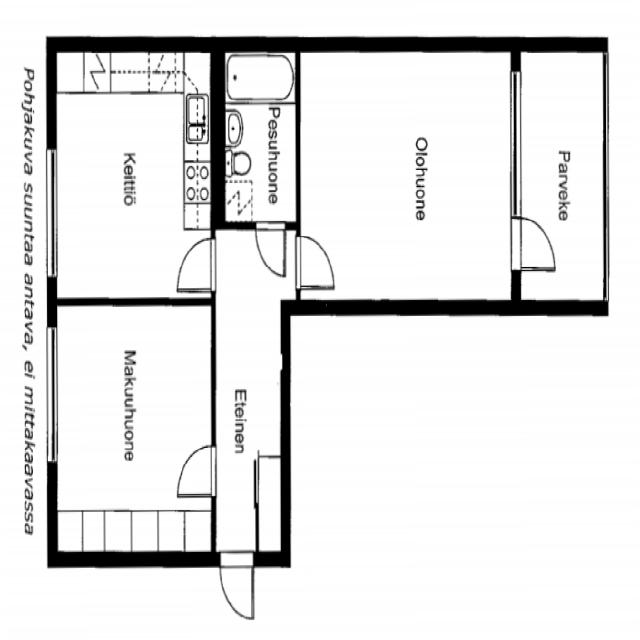door: (298, 45, 516, 310), (215, 549, 259, 627), (170, 437, 221, 504), (172, 230, 218, 295), (293, 230, 339, 289), (254, 221, 289, 279)
window: (38, 140, 64, 287), (40, 321, 64, 472), (506, 61, 526, 218)
zone: (53, 297, 218, 558), (49, 50, 218, 304), (516, 44, 606, 307), (220, 52, 298, 223), (504, 212, 562, 273)
